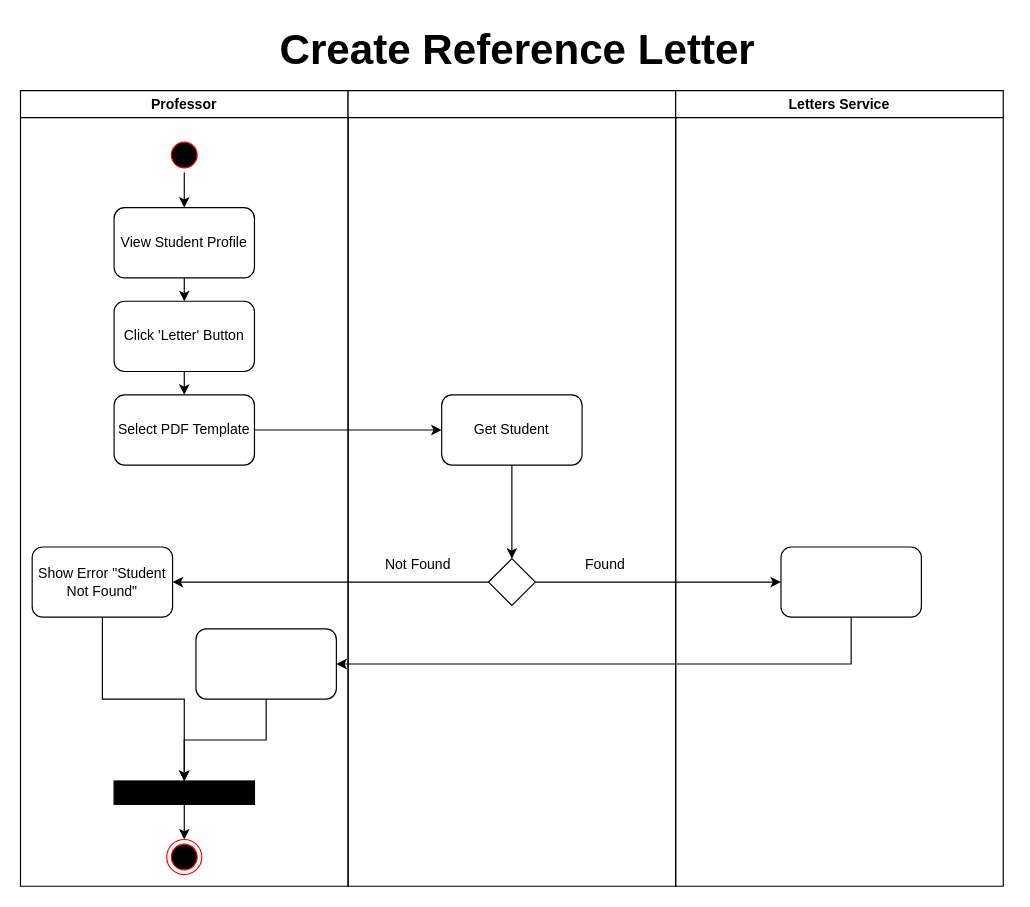
Some shapes in this 1030 by 907 pixel diagram are drawn without their labels. The shapes that lost their labels are listed below. From the top down, each one's box as (x1, y1, x2, y2) in pixels, then its label:
(347, 90, 676, 886): Students Service
(780, 546, 921, 617): Create Reference Letter using selected PDF Template
(195, 628, 336, 699): Download PDF
